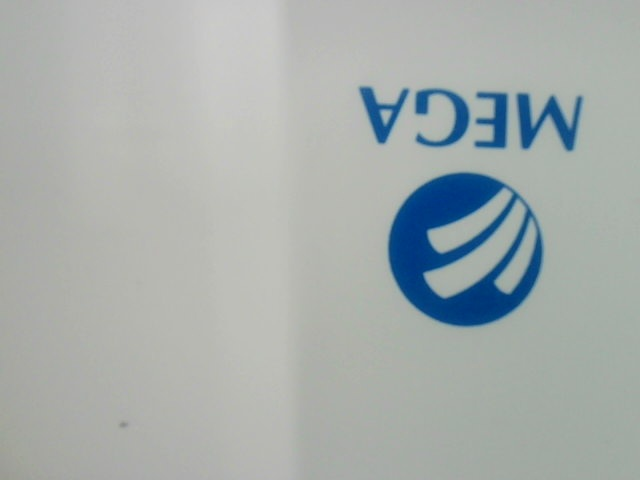AM_ZTEMEGA: (344, 67, 616, 334)
